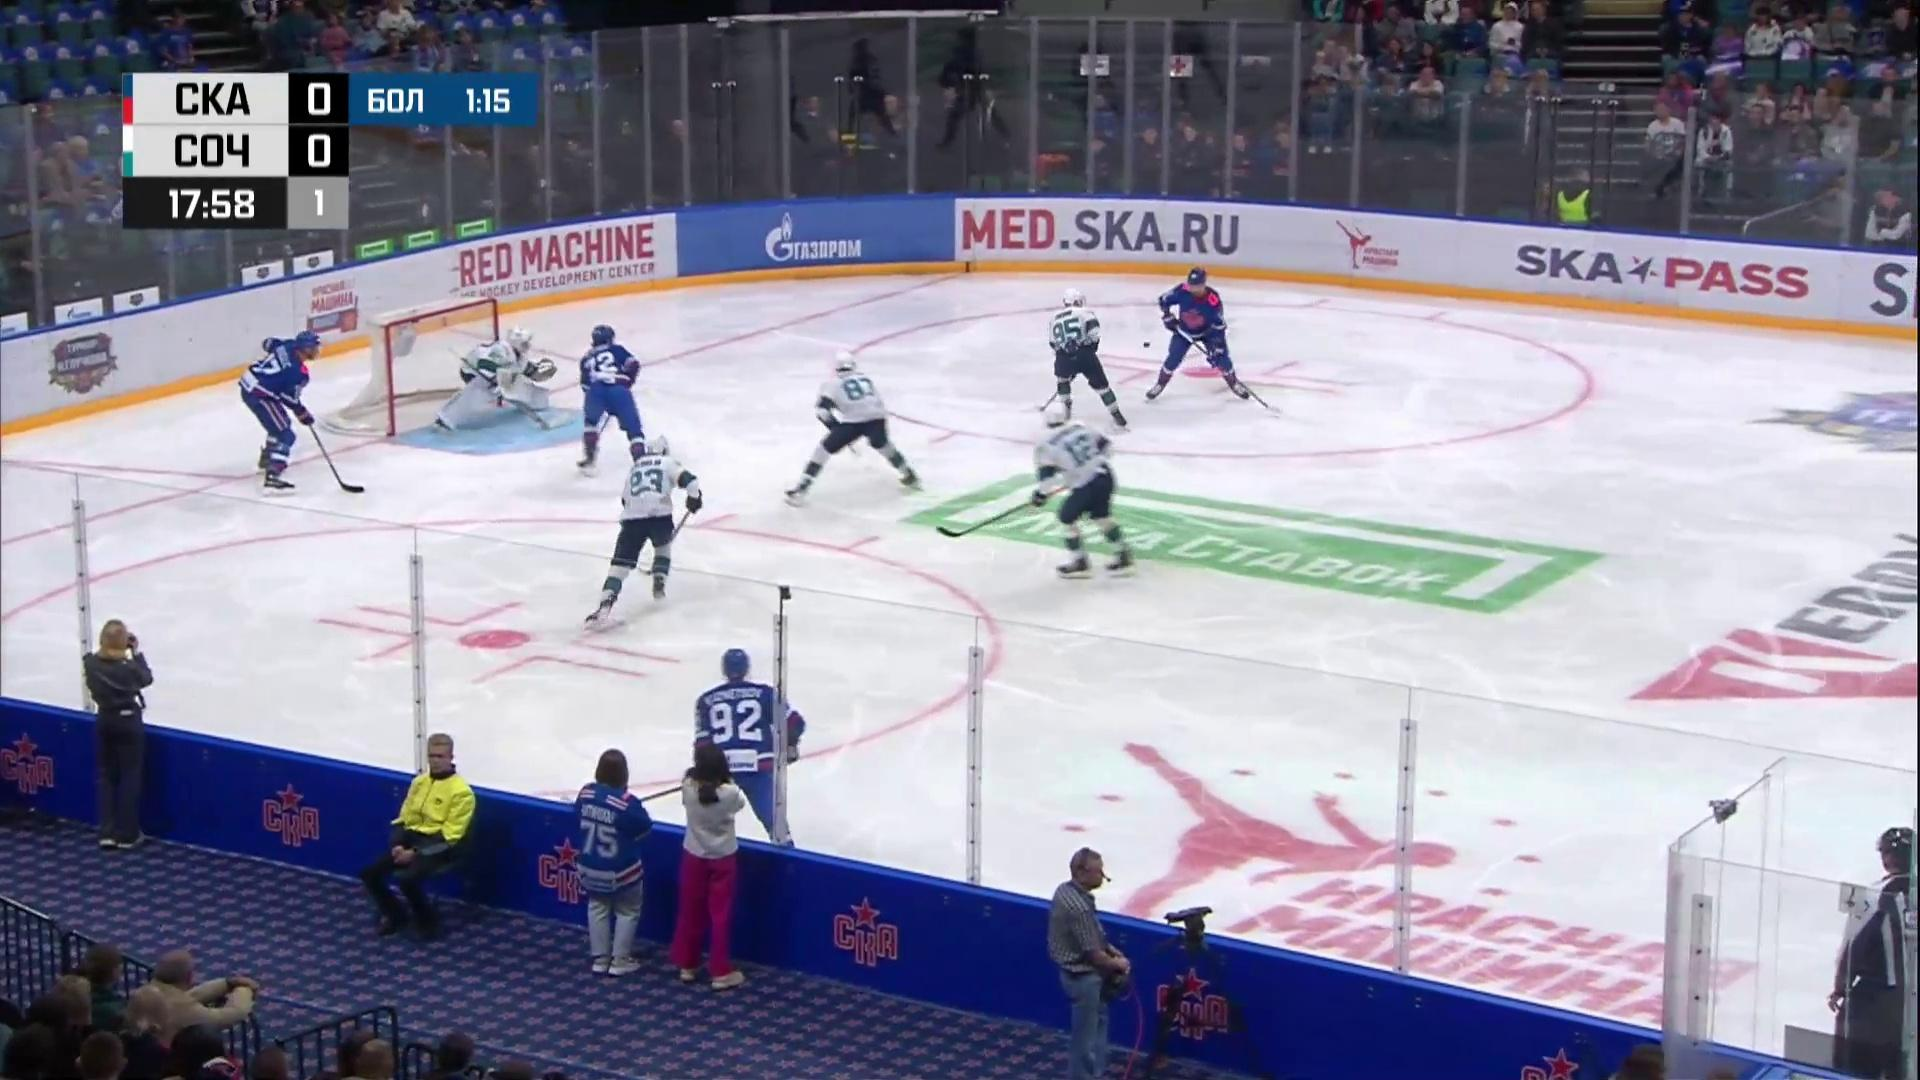ball: (1143, 342, 1150, 348)
